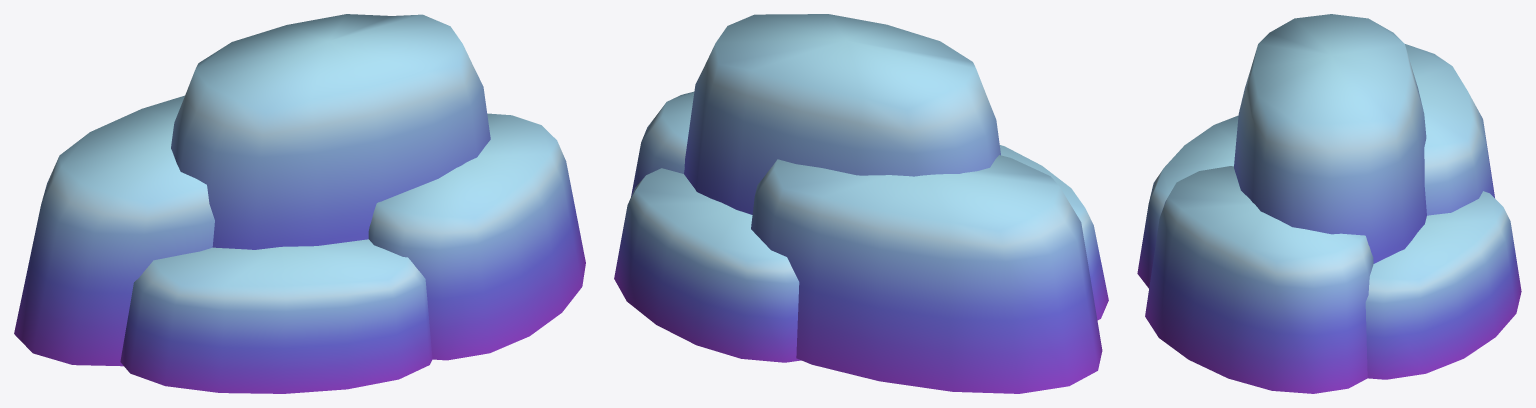
The model's file is Rocks_2.fbx.
3 renders of one model, left to right at view 1: azimuth 30°, elevation 25°; view 2: azimuth 150°, elevation 25°; view 3: azimuth 270°, elevation 25°, orthographic. The views are drawn at different scales.
Parts seen in each view (by area): view 1: Rocks_2; view 2: Rocks_2; view 3: Rocks_2.
Part boxes in pixels (<box>): Rocks_2: <box>14,14,585,393</box>; Rocks_2: <box>614,14,1108,393</box>; Rocks_2: <box>1137,14,1521,393</box>.
Bounding box in the file's own units: 0.4873 × 1.01 × 0.7107.
